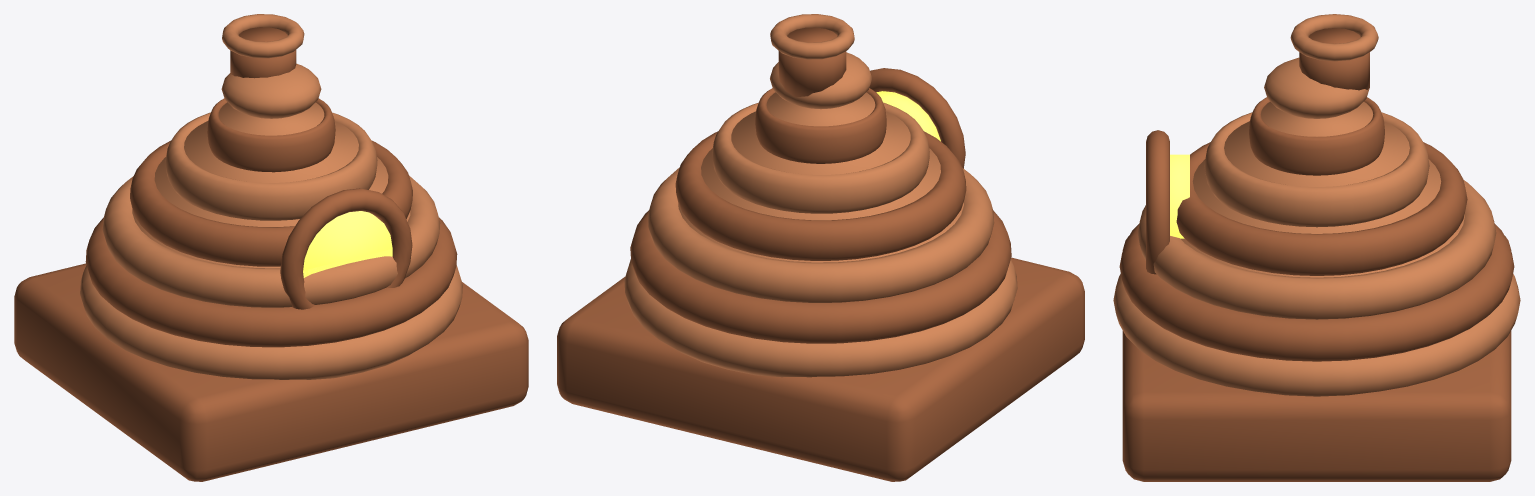
The model's file is props3.glb.
The picture shows the model from 3 angles, left to right: view 1: azimuth 30°, elevation 25°; view 2: azimuth 150°, elevation 25°; view 3: azimuth 270°, elevation 25°; orthographic projection. The views are drawn at different scales.
Parts seen in each view (by area): view 1: prop_oven; view 2: prop_oven; view 3: prop_oven.
Part boxes in pixels (left/top/right/bottom): prop_oven: left=14, top=14, right=528, bottom=481; prop_oven: left=557, top=14, right=1084, bottom=481; prop_oven: left=1113, top=14, right=1520, bottom=481.
Size of the model in its own units: 2.4 by 2.46 by 2.31.
